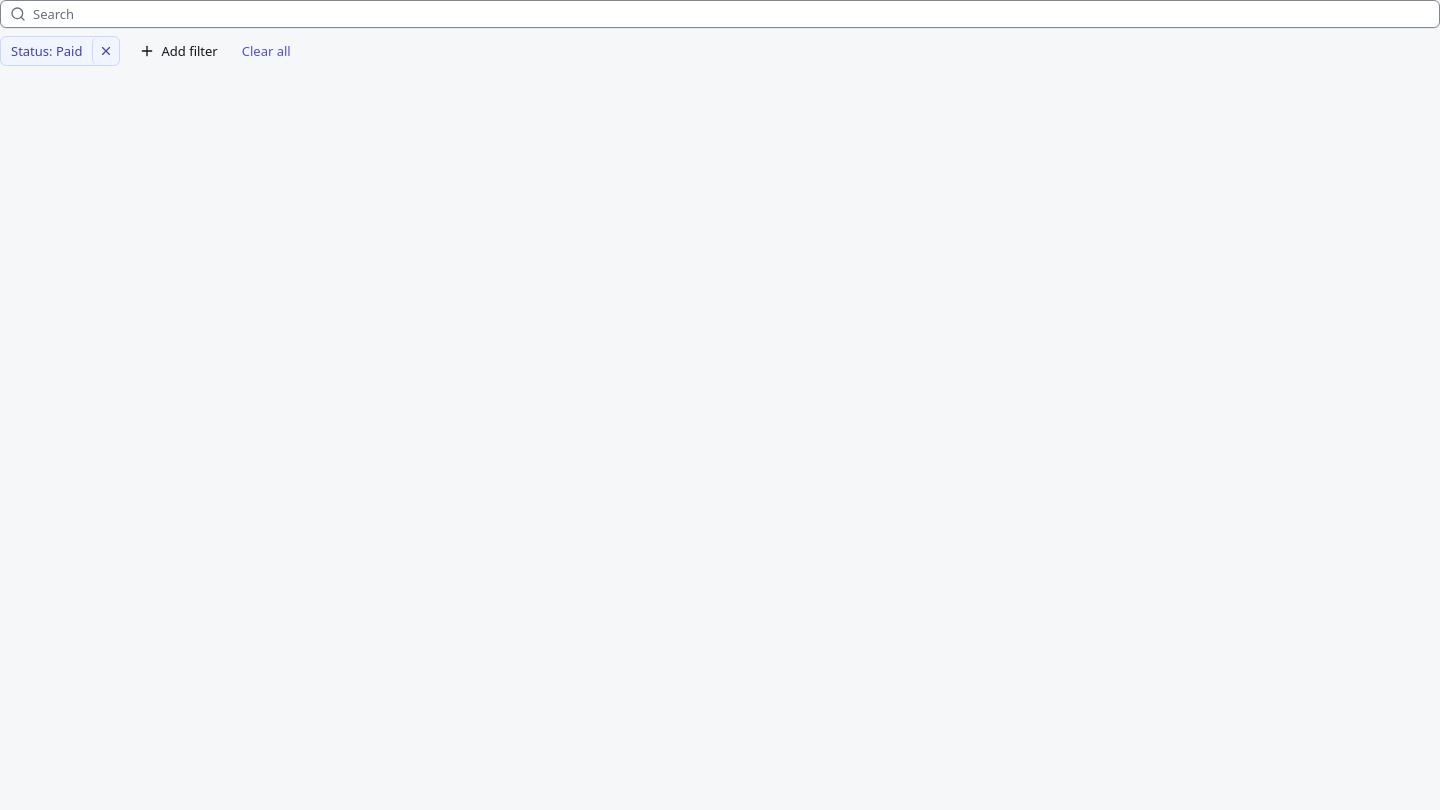
Filters › opens the filter popover from a pill
Click the button "Status: Paid" at (47, 51), box [1, 37, 92, 65]
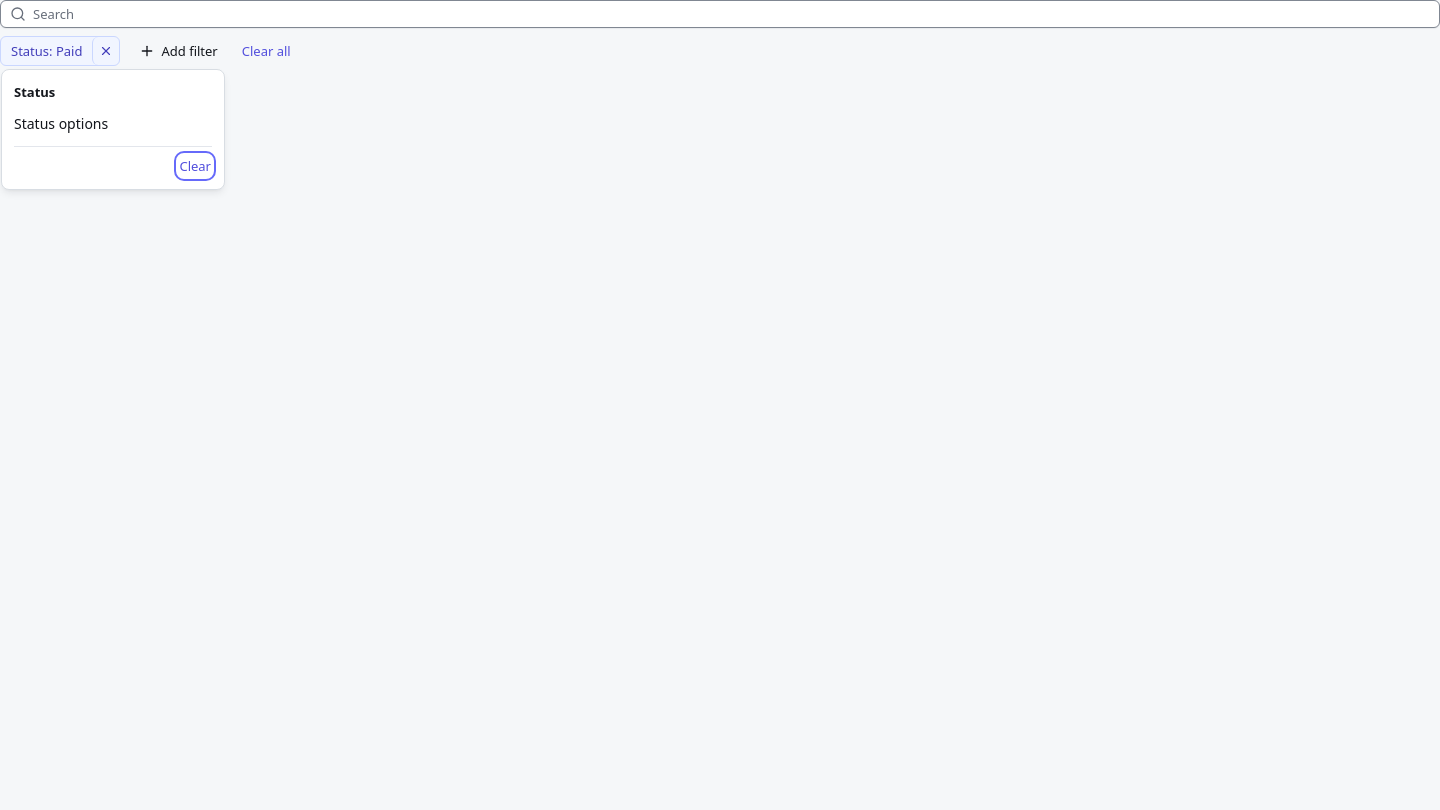
Expected: the text "Status options" is shown, [14, 114, 108, 133]
